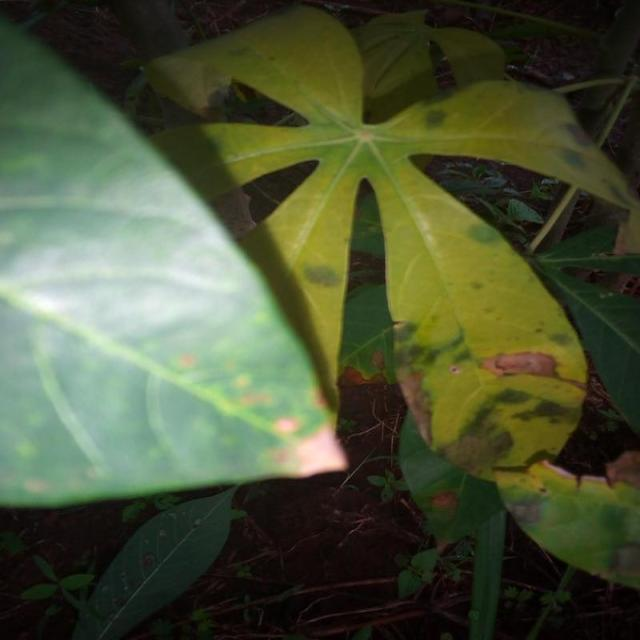cassava leaf: (138, 3, 638, 476), (0, 13, 348, 509)
